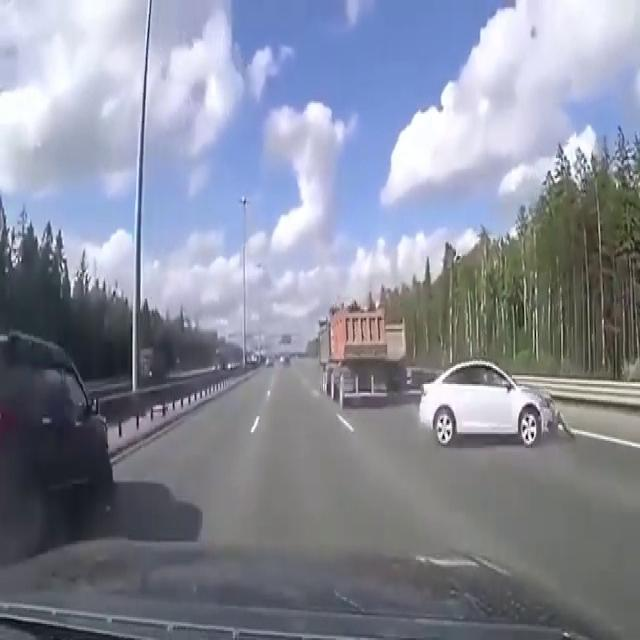moderate: (412, 347, 566, 458)
